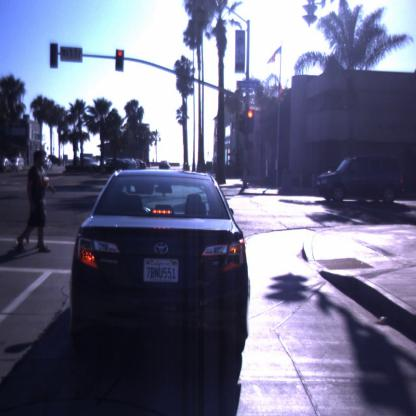trafficlight: (243, 107, 257, 134), (114, 44, 123, 72)
